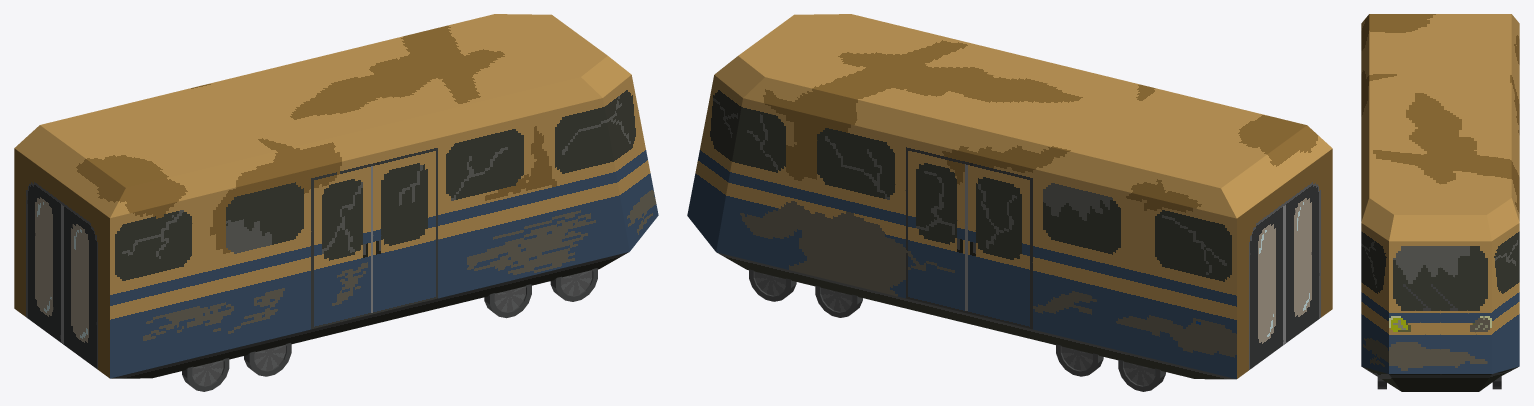
Rendered from Train.gltf.
The picture shows the model from 3 angles, left to right: view 1: azimuth 30°, elevation 25°; view 2: azimuth 150°, elevation 25°; view 3: azimuth 270°, elevation 25°; orthographic projection. The views are drawn at different scales.
Parts seen in each view (by area): view 1: cube, cylinder (×4); view 2: cube; view 3: cube.
Part boxes in pixels (bbox=[...]): cube: bbox=[14, 14, 658, 378]; cylinder (×4): bbox=[192, 270, 592, 385]; cube: bbox=[687, 14, 1332, 379]; cube: bbox=[1361, 14, 1519, 391].
Bounding box in the file's own units: 0.8531 × 0.3288 × 0.25.
3 materials, 3 textured.
